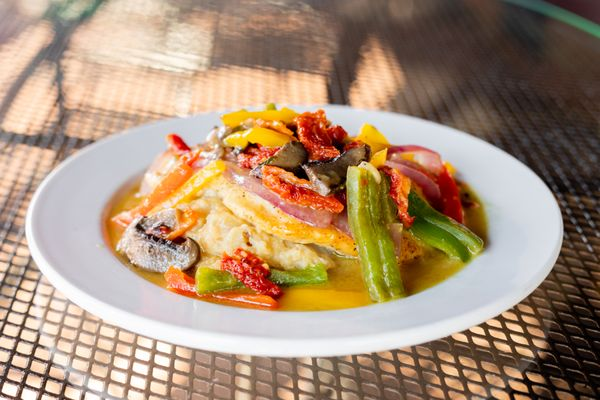curry: (10, 0, 599, 391)
